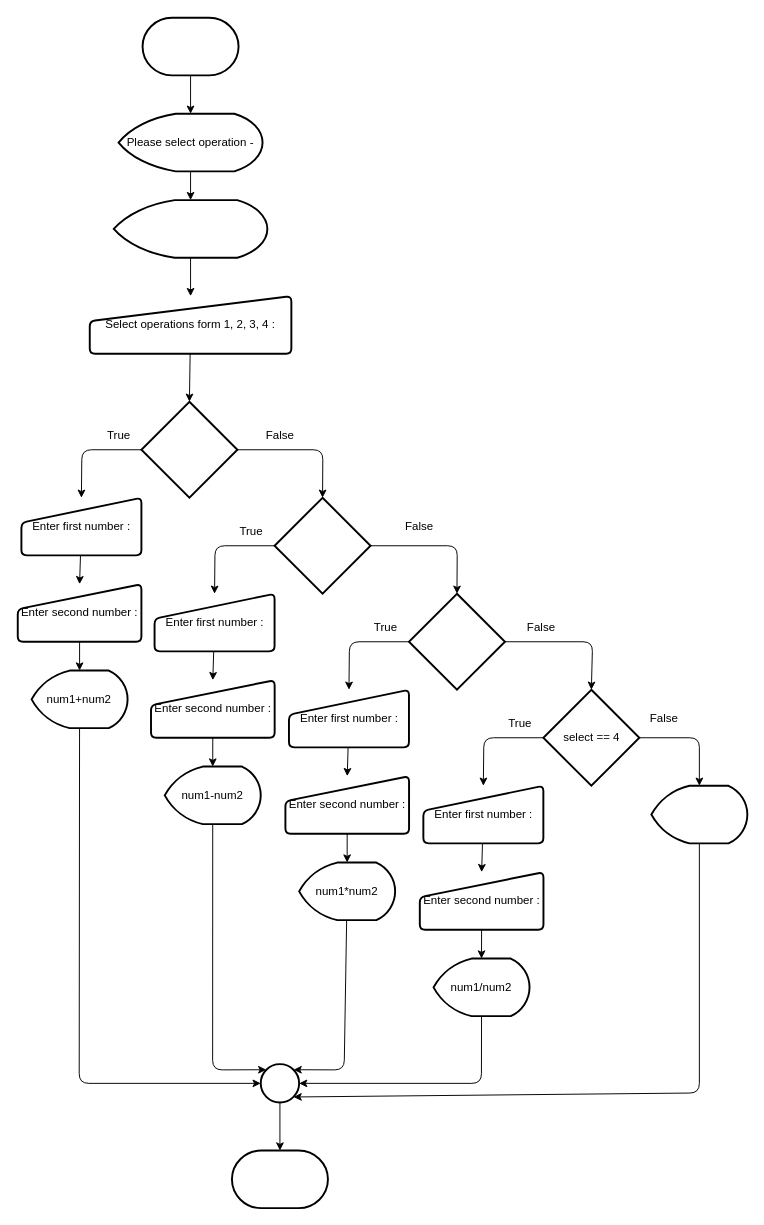
Image size: 764x1225. Some labels were removed from this diagram. The box of each missing label's shape, as (x1, y1, x2, y2) in pixels:
1. Add 2. Subtract 3. Multiply 4.DIvide: (112, 199, 268, 258)
End: (230, 1149, 328, 1209)
Operator Error: (650, 784, 748, 844)
select == 1: (140, 400, 238, 498)
select == 2: (273, 496, 371, 594)
select == 3: (408, 592, 505, 690)
Start: (141, 16, 239, 76)
